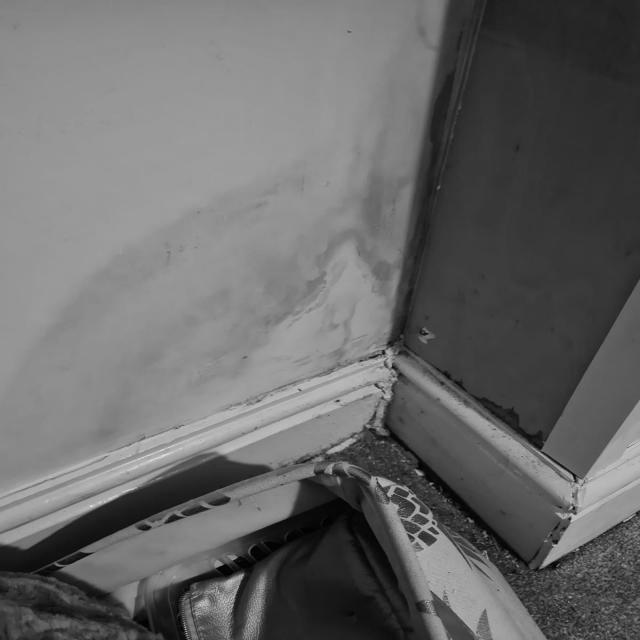stain marks: (356, 0, 442, 366), (246, 138, 350, 392), (176, 191, 248, 426), (112, 226, 173, 452), (62, 267, 118, 469), (5, 316, 62, 498)
